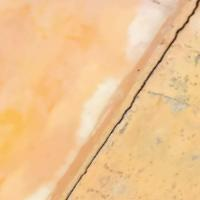crack: (64, 0, 199, 199)
